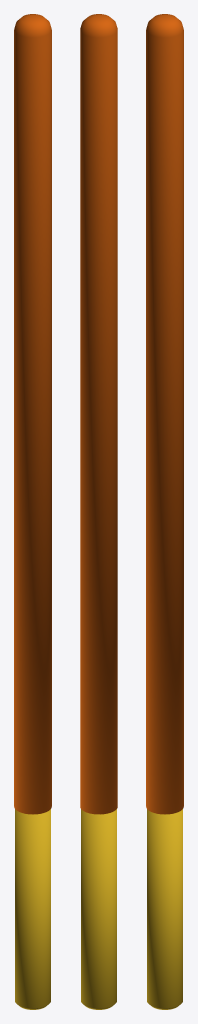
File: Chocolate-Sticks.fbx
3 views of the same model, side by side, from view 1: azimuth 90°, elevation 25°; view 2: azimuth 150°, elevation 25°; view 3: azimuth 270°, elevation 25° (orthographic).
Visible parts, largest first — view 1: Chocolate-Sticks; view 2: Chocolate-Sticks; view 3: Chocolate-Sticks.
Boxes of the visible parts, x1,y1,x2,y2 form: Chocolate-Sticks: [14, 14, 51, 1009]; Chocolate-Sticks: [80, 14, 117, 1009]; Chocolate-Sticks: [146, 14, 183, 1009].
Size of the model in its own units: 0.52 by 15 by 0.52.
